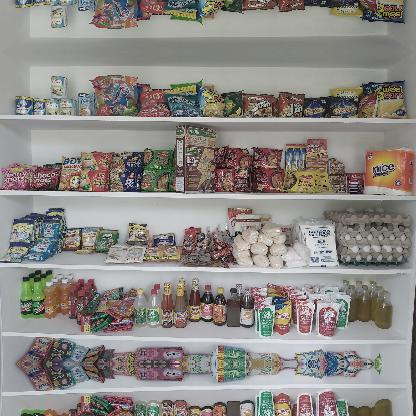Koko-Krunch: (176, 124, 216, 192)
